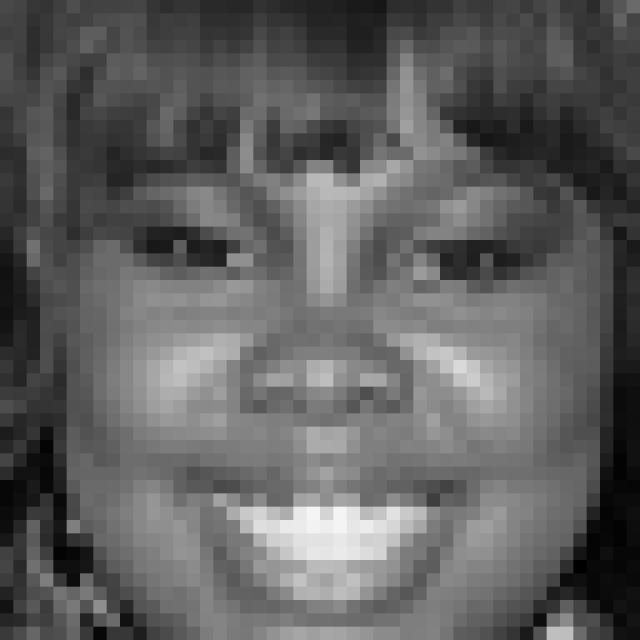happy: (116, 139, 570, 625)
